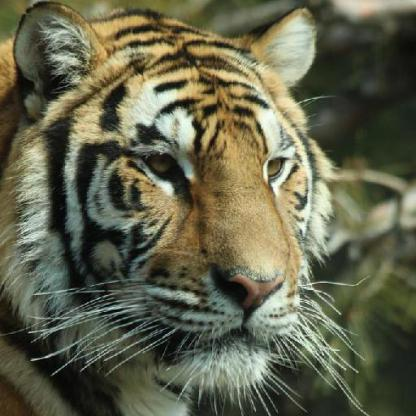tiger: (14, 3, 341, 377)
